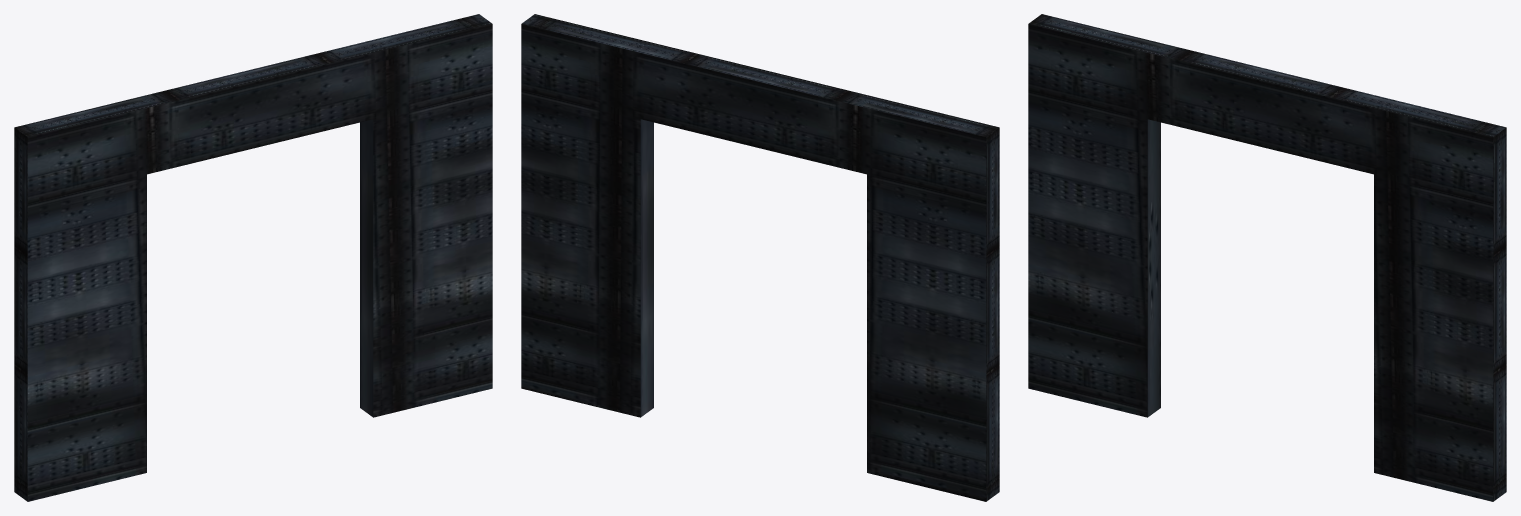
The model's file is Door.glb.
3 views of the same model, side by side, from view 1: azimuth 30°, elevation 25°; view 2: azimuth 150°, elevation 25°; view 3: azimuth 330°, elevation 25° (orthographic).
Visible parts, largest first — view 1: Cube; view 2: Cube; view 3: Cube.
Boxes of the visible parts, x1,y1,x2,y2 form: Cube: (14, 14, 492, 501); Cube: (521, 14, 999, 501); Cube: (1028, 14, 1506, 501).
Bounding box in the file's own units: 8 × 6 × 0.4.
1 material, 1 textured.
